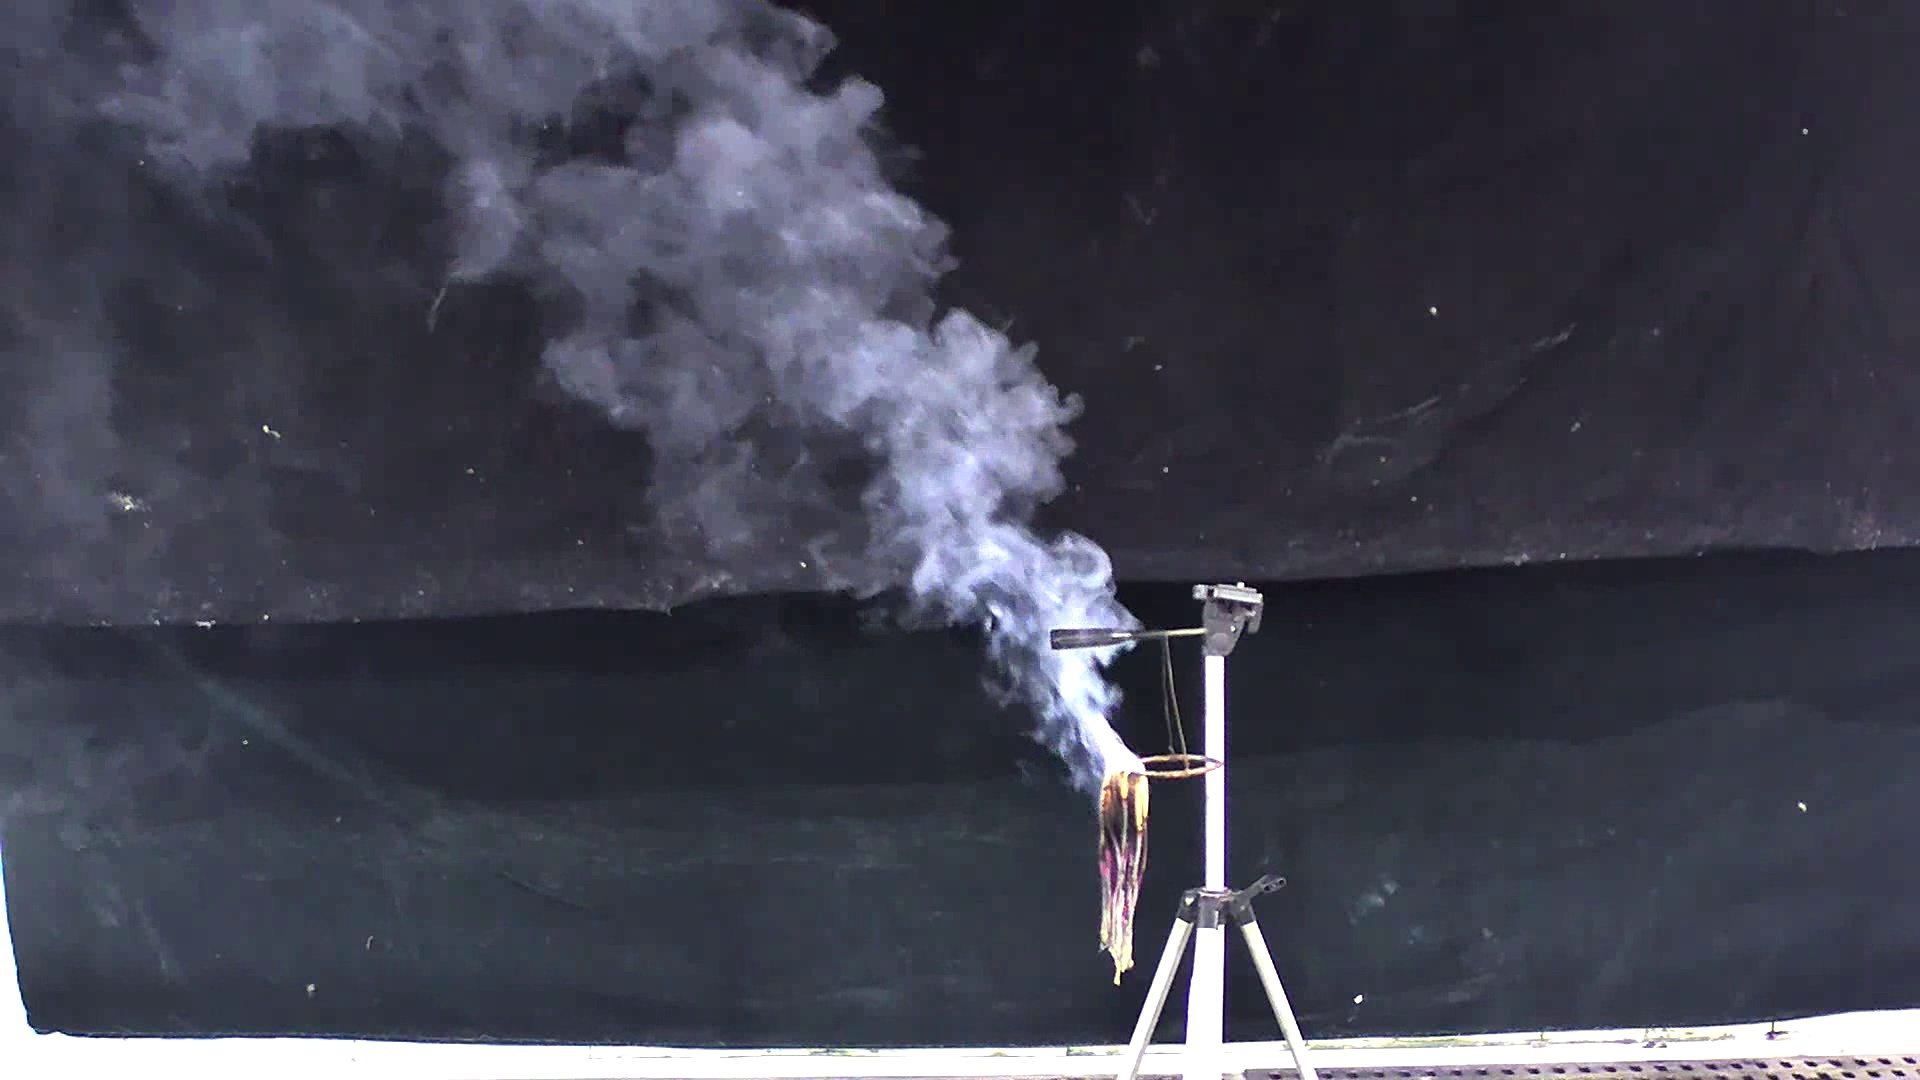smoke: (392, 20, 1158, 800)
